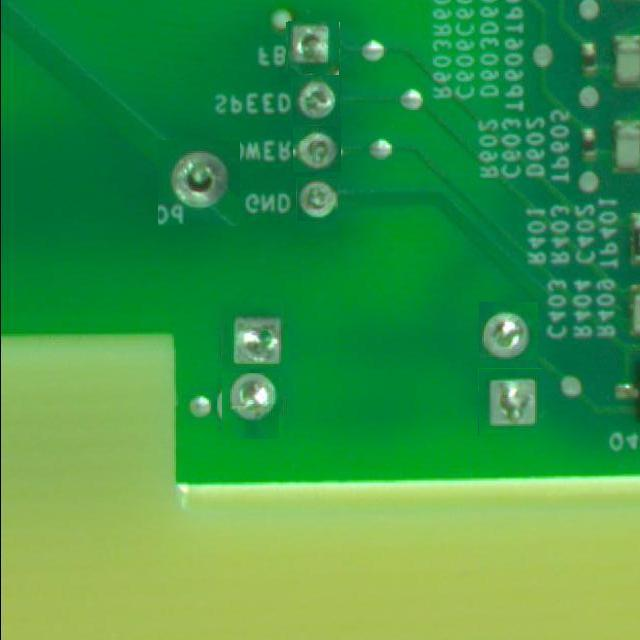lack_of_part: (158, 140, 240, 226), (478, 368, 542, 436), (221, 301, 286, 366), (219, 376, 281, 438), (480, 302, 540, 360), (286, 22, 340, 74), (291, 77, 341, 126), (293, 126, 341, 172), (296, 177, 338, 221)
